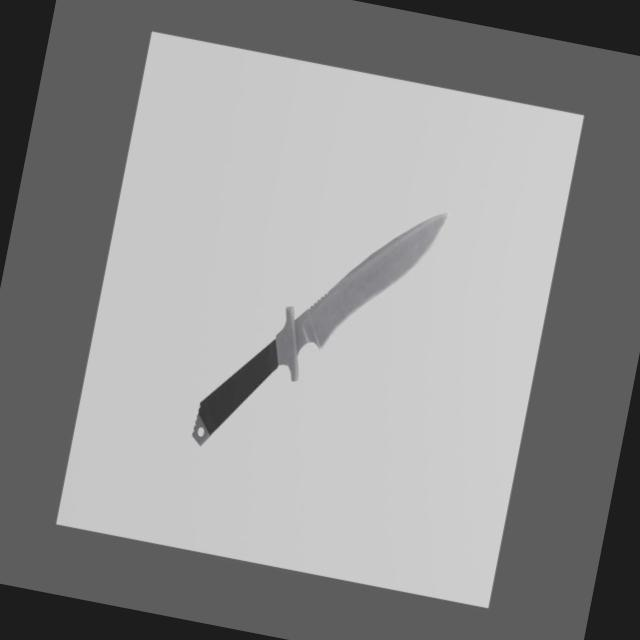knife: (190, 326, 284, 458)
